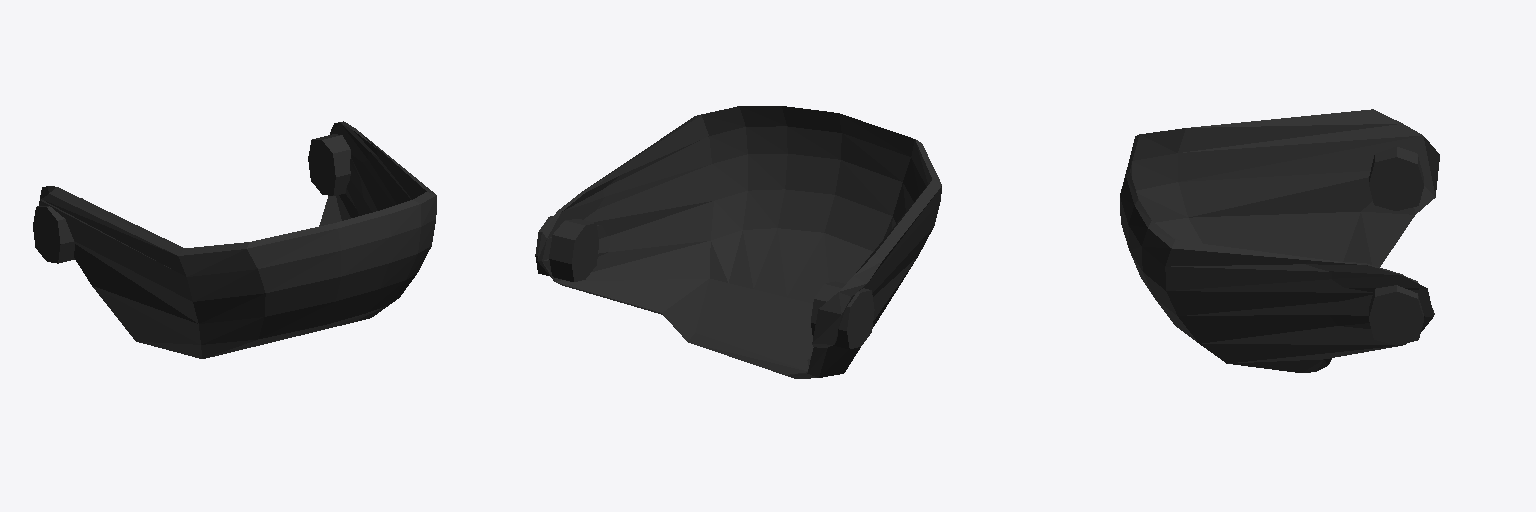
File: mouth.obj
3 renders of one model, left to right at view 1: azimuth 30°, elevation 25°; view 2: azimuth 150°, elevation 25°; view 3: azimuth 270°, elevation 25°, orthographic.
Visible parts, largest first — view 1: Mouth_Cube.006; view 2: Mouth_Cube.006; view 3: Mouth_Cube.006.
Part boxes in pixels (bbox=[...]): Mouth_Cube.006: bbox=[33, 121, 436, 358]; Mouth_Cube.006: bbox=[535, 106, 941, 378]; Mouth_Cube.006: bbox=[1120, 109, 1439, 372].
Size of the model in its own units: 1.39 by 0.7209 by 1.2.